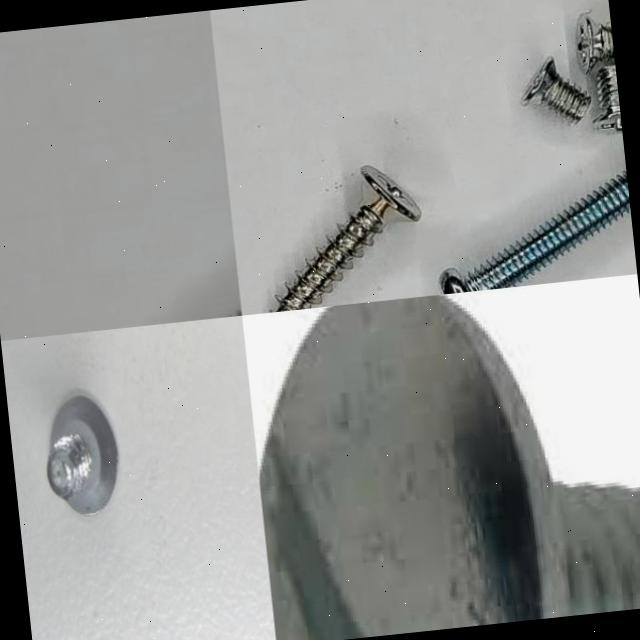Screw: (258, 294, 640, 640), (439, 171, 630, 294), (273, 165, 420, 312), (46, 396, 117, 517), (521, 56, 590, 121), (576, 12, 615, 72), (592, 64, 622, 131)
